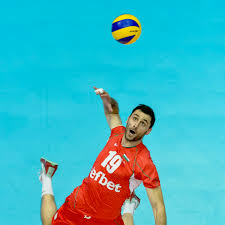ball: (110, 12, 141, 45)
